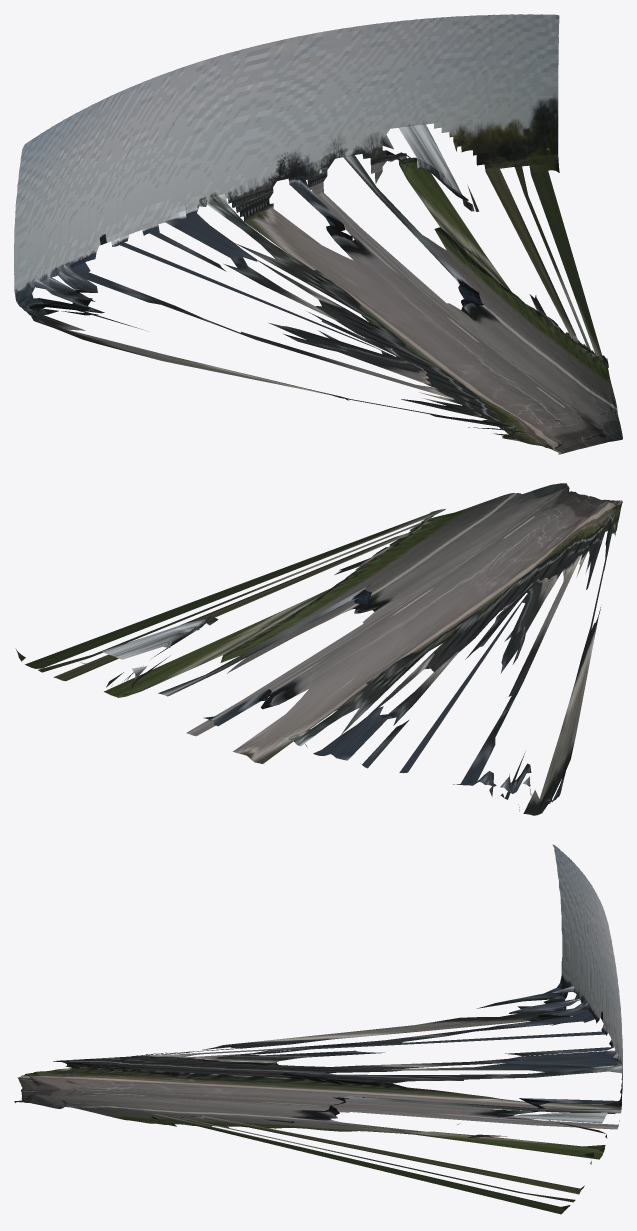
The picture shows the model from 3 angles, top to bottom: view 1: azimuth 30°, elevation 25°; view 2: azimuth 150°, elevation 25°; view 3: azimuth 270°, elevation 25°; orthographic projection. The views are drawn at different scales.
Visible parts, largest first — view 1: defaultobject; view 2: defaultobject; view 3: defaultobject.
Boxes of the visible parts, x1=… form: defaultobject: x1=14, y1=14, x2=622, y2=454; defaultobject: x1=15, y1=483, x2=622, y2=815; defaultobject: x1=14, y1=844, x2=622, y2=1214.
Size of the model in its own units: 41.16 by 14.03 by 44.8.
1 material, 1 textured.
